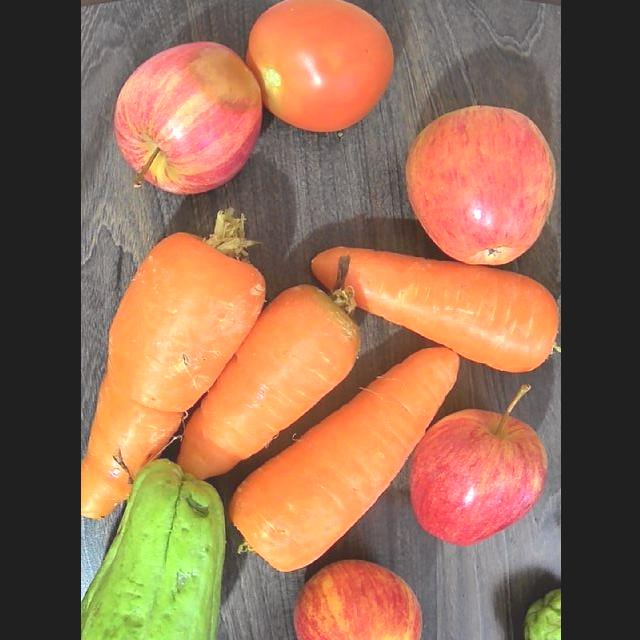chayote: (81, 458, 225, 639), (523, 589, 560, 639)
manzana: (406, 105, 554, 264), (114, 41, 260, 193), (409, 385, 547, 545), (294, 560, 421, 639)
tomate: (247, 0, 393, 131)
zanahoria: (81, 210, 264, 517), (229, 348, 459, 571), (177, 285, 359, 478), (312, 246, 560, 371)
